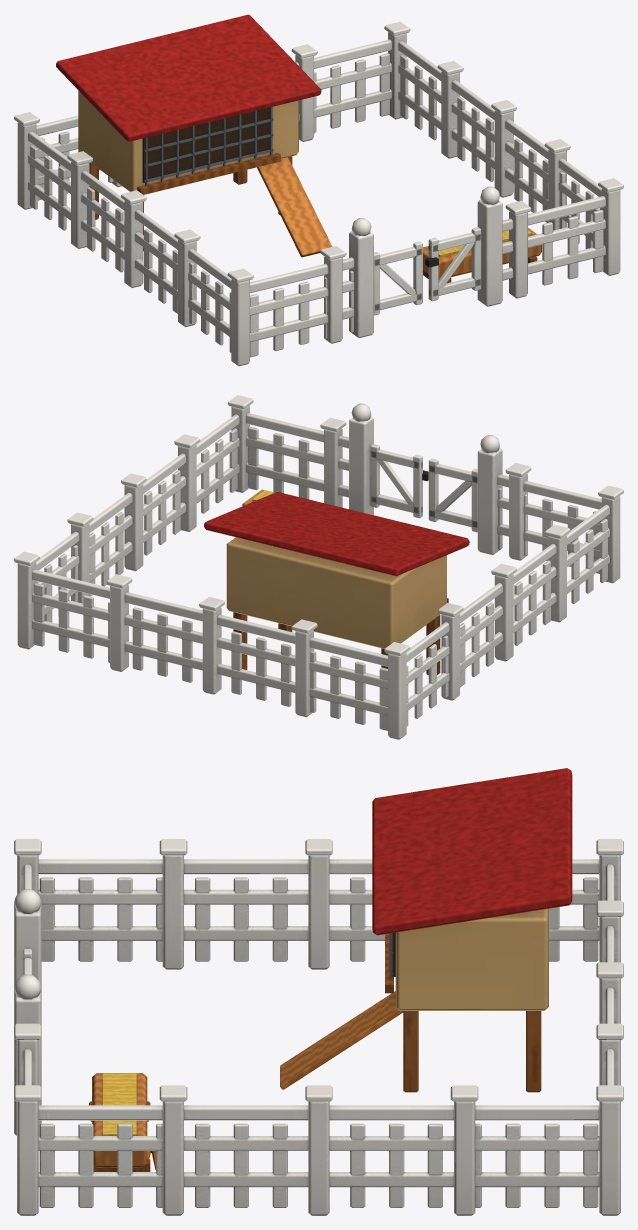
Rendered from rabbit_hutch.glb.
3 views of the same model, one above another, from view 1: azimuth 30°, elevation 25°; view 2: azimuth 150°, elevation 25°; view 3: azimuth 270°, elevation 25° (orthographic). The views are drawn at different scales.
Parts seen in each view (by area): view 1: rabbit_hutch, gate1, gate0; view 2: rabbit_hutch, gate1, gate0; view 3: rabbit_hutch.
Part boxes in pixels (left/top/right/bottom): rabbit_hutch: left=14, top=14, right=623, bottom=366; gate1: left=425, top=227, right=481, bottom=301; gate0: left=374, top=241, right=422, bottom=315; rabbit_hutch: left=14, top=395, right=623, bottom=739; gate1: left=370, top=444, right=428, bottom=518; gate0: left=428, top=458, right=477, bottom=532; rabbit_hutch: left=14, top=768, right=623, bottom=1215.
Bounding box in the file's own units: 1.99 × 0.7573 × 1.99.
Materials: 1 (1 with a texture image).
